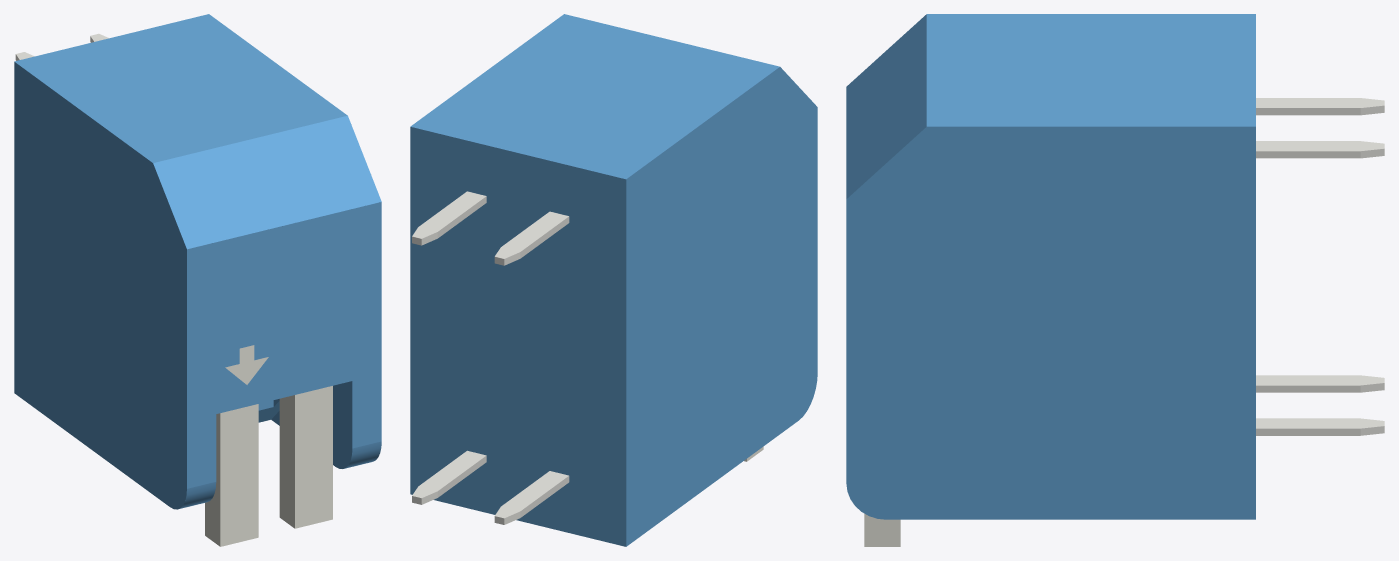
The model's file is SW_DIP_SPSTx02_Piano_10.8x6.64mm_W7.62mm_P2.54mm.glb.
3 views of the same model, side by side, from view 1: azimuth 30°, elevation 25°; view 2: azimuth 150°, elevation 25°; view 3: azimuth 270°, elevation 25° (orthographic). The views are drawn at different scales.
Visible parts, largest first — view 1: Shape_IndexedFaceSet.008, Shape_IndexedFaceSet.001, Shape_IndexedFaceSet.005, Shape_IndexedFaceSet.003, Shape_IndexedFaceSet.036, Shape_IndexedFaceSet.033, Shape_IndexedFaceSet.035, Shape_IndexedFaceSet.007, Shape_IndexedFaceSet.034, Shape_IndexedFaceSet.012, Shape_IndexedFaceSet.002, Shape_IndexedFaceSet.010; view 2: Shape_IndexedFaceSet.006, Shape_IndexedFaceSet.008, Shape_IndexedFaceSet.005, Shape_IndexedFaceSet.017, Shape_IndexedFaceSet.019, Shape_IndexedFaceSet.022, Shape_IndexedFaceSet.028; view 3: Shape_IndexedFaceSet, Shape_IndexedFaceSet.005, Shape_IndexedFaceSet.003, Shape_IndexedFaceSet.017, Shape_IndexedFaceSet.028, Shape_IndexedFaceSet.022, Shape_IndexedFaceSet.019, Shape_IndexedFaceSet.031, Shape_IndexedFaceSet.016, Shape_IndexedFaceSet.018, Shape_IndexedFaceSet.025, Shape_IndexedFaceSet.027.
Part boxes in pixels (<box>): Shape_IndexedFaceSet.008: <box>14,62,186,509</box>; Shape_IndexedFaceSet.001: <box>187,202,381,488</box>; Shape_IndexedFaceSet.005: <box>14,14,347,162</box>; Shape_IndexedFaceSet.003: <box>153,115,381,249</box>; Shape_IndexedFaceSet.036: <box>220,404,258,546</box>; Shape_IndexedFaceSet.033: <box>295,386,332,528</box>; Shape_IndexedFaceSet.035: <box>279,395,294,528</box>; Shape_IndexedFaceSet.007: <box>271,381,352,468</box>; Shape_IndexedFaceSet.034: <box>205,413,220,546</box>; Shape_IndexedFaceSet.012: <box>225,345,268,384</box>; Shape_IndexedFaceSet.002: <box>344,441,381,468</box>; Shape_IndexedFaceSet.010: <box>178,482,216,509</box>; Shape_IndexedFaceSet.006: <box>410,127,626,546</box>; Shape_IndexedFaceSet.008: <box>626,67,817,546</box>; Shape_IndexedFaceSet.005: <box>410,14,779,179</box>; Shape_IndexedFaceSet.017: <box>495,471,568,518</box>; Shape_IndexedFaceSet.019: <box>495,211,568,258</box>; Shape_IndexedFaceSet.022: <box>412,191,486,238</box>; Shape_IndexedFaceSet.028: <box>412,450,486,498</box>; Shape_IndexedFaceSet: <box>846,126,1255,519</box>; Shape_IndexedFaceSet.005: <box>926,14,1255,126</box>; Shape_IndexedFaceSet.003: <box>846,14,926,198</box>; Shape_IndexedFaceSet.017: <box>1256,375,1384,385</box>; Shape_IndexedFaceSet.028: <box>1256,418,1384,428</box>; Shape_IndexedFaceSet.022: <box>1256,141,1384,151</box>; Shape_IndexedFaceSet.019: <box>1256,98,1384,107</box>; Shape_IndexedFaceSet.031: <box>864,513,900,546</box>; Shape_IndexedFaceSet.016: <box>1256,385,1360,392</box>; Shape_IndexedFaceSet.018: <box>1256,108,1360,115</box>; Shape_IndexedFaceSet.025: <box>1256,151,1360,158</box>; Shape_IndexedFaceSet.027: <box>1256,428,1360,435</box>.
Size of the model in its own units: 2.61 by 4.8 by 5.28.
